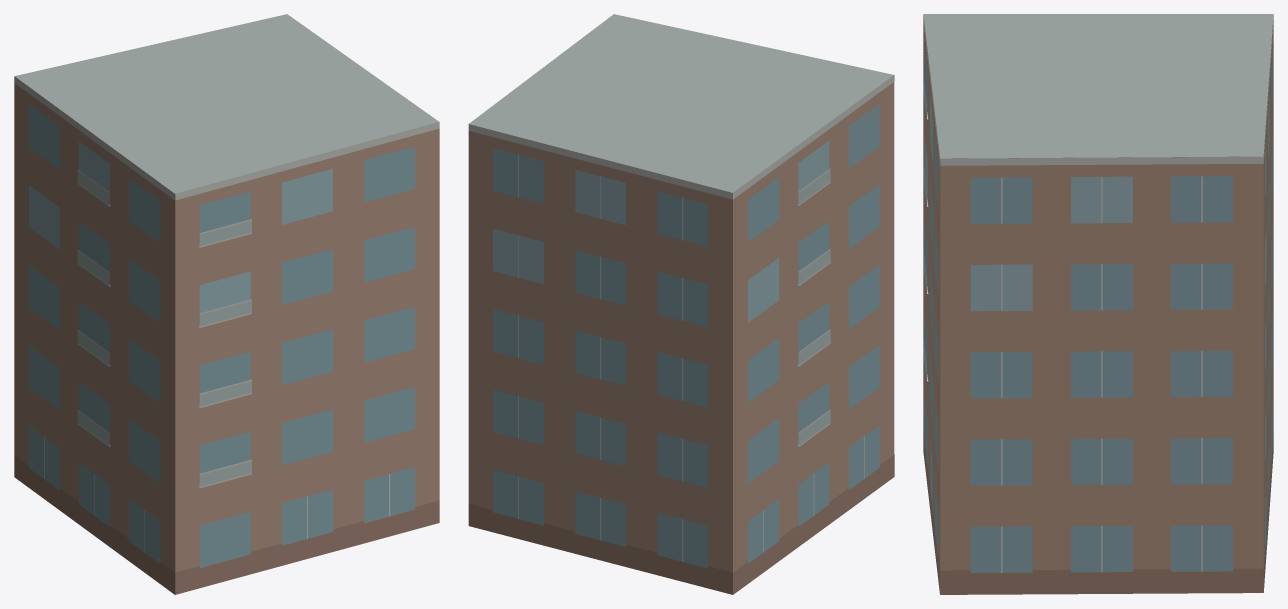
The model's file is survey-upis-32645492.glb.
3 renders of one model, left to right at view 1: azimuth 30°, elevation 25°; view 2: azimuth 150°, elevation 25°; view 3: azimuth 270°, elevation 25°, orthographic. The views are drawn at different scales.
Visible parts, largest first — view 1: survey-upis-32645492.tmp; view 2: survey-upis-32645492.tmp; view 3: survey-upis-32645492.tmp.
Boxes of the visible parts, bbox=[...] form: survey-upis-32645492.tmp: bbox=[14, 14, 439, 594]; survey-upis-32645492.tmp: bbox=[468, 14, 894, 594]; survey-upis-32645492.tmp: bbox=[923, 14, 1273, 594].
Bounding box in the file's own units: 10.48 × 14.7 × 10.7.
